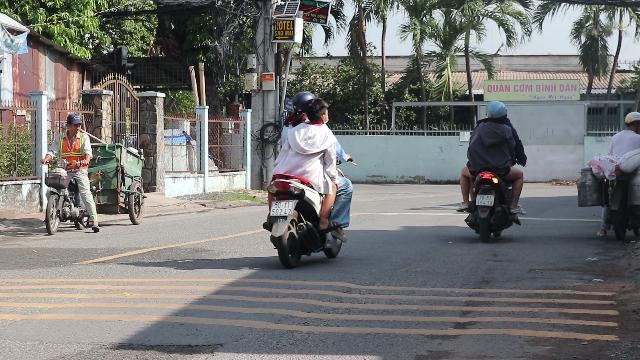helmet: (290, 90, 316, 118), (485, 100, 507, 122), (624, 111, 640, 131)
licenseplate: (270, 200, 294, 216), (476, 195, 494, 206)
motorcyclist: (260, 90, 356, 266), (457, 100, 528, 240), (40, 111, 100, 235), (596, 110, 640, 240)
nohelmet: (306, 97, 330, 125), (65, 112, 83, 136)
